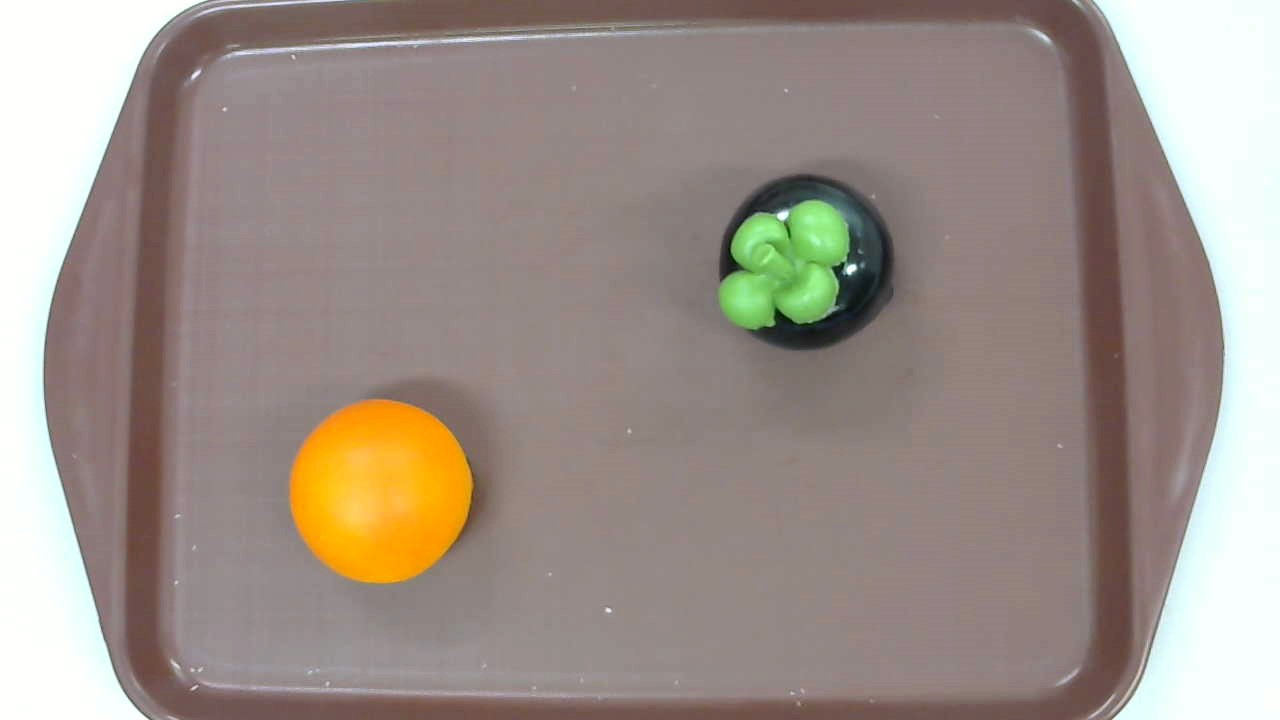bun: (289, 399, 473, 582)
mangosteen: (718, 174, 895, 352)
